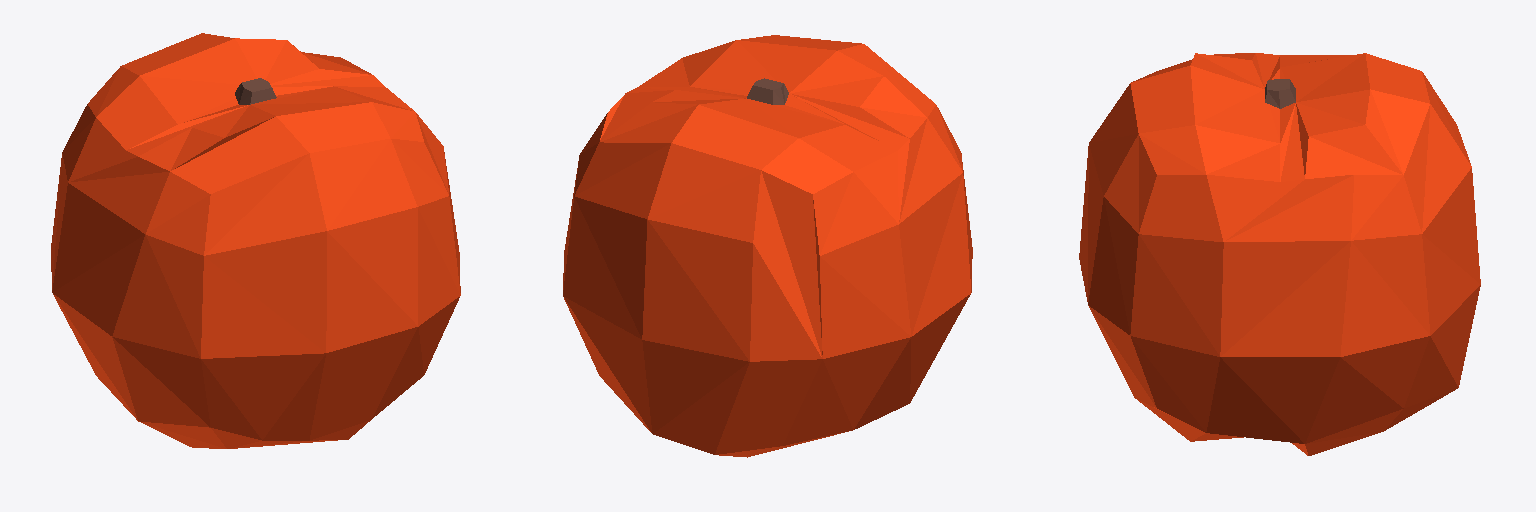
The model's file is SuperSimplePeach.obj.
The picture shows the model from 3 angles: view 1: azimuth 30°, elevation 25°; view 2: azimuth 150°, elevation 25°; view 3: azimuth 270°, elevation 25°; orthographic projection.
Visible parts, largest first — view 1: peach_Roundcube.006; view 2: peach_Roundcube.006; view 3: peach_Roundcube.006.
Part boxes in pixels (x1,y1,x2,y2): peach_Roundcube.006: (51, 33, 460, 448); peach_Roundcube.006: (563, 35, 972, 457); peach_Roundcube.006: (1079, 53, 1480, 455).
Bounding box in the file's own units: 9.39 × 9.22 × 9.4.